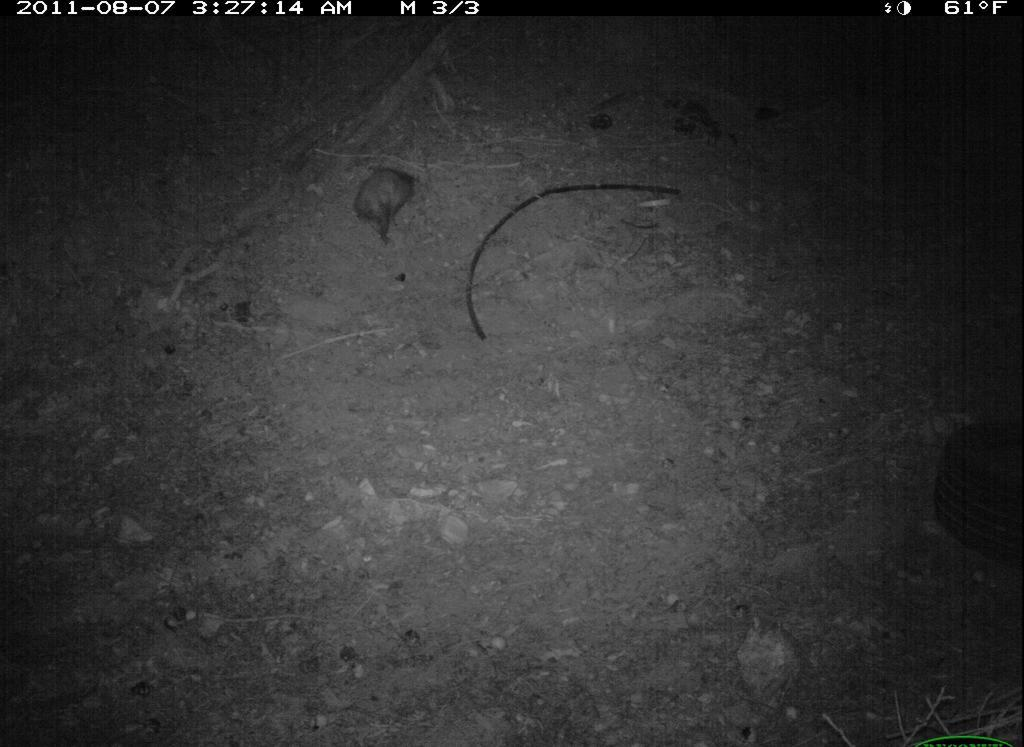opossum: (350, 162, 420, 247)
